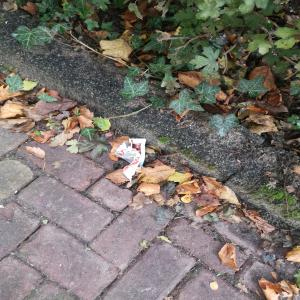Trash: (114, 137, 153, 185)
